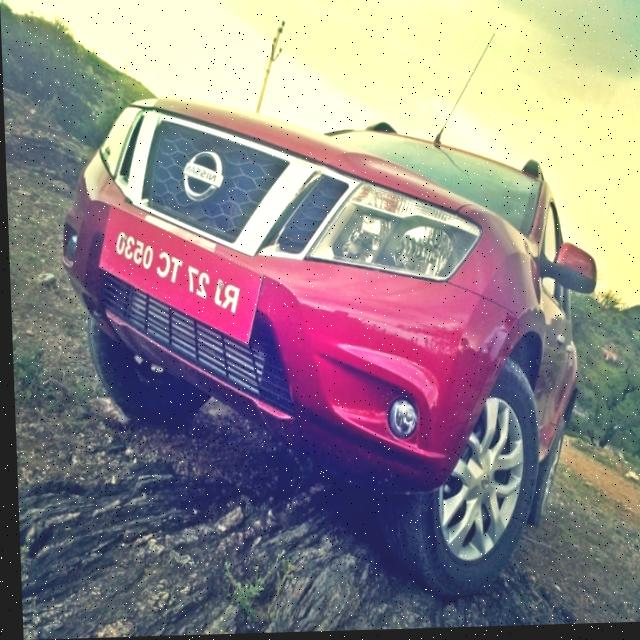plate: (90, 198, 268, 360)
